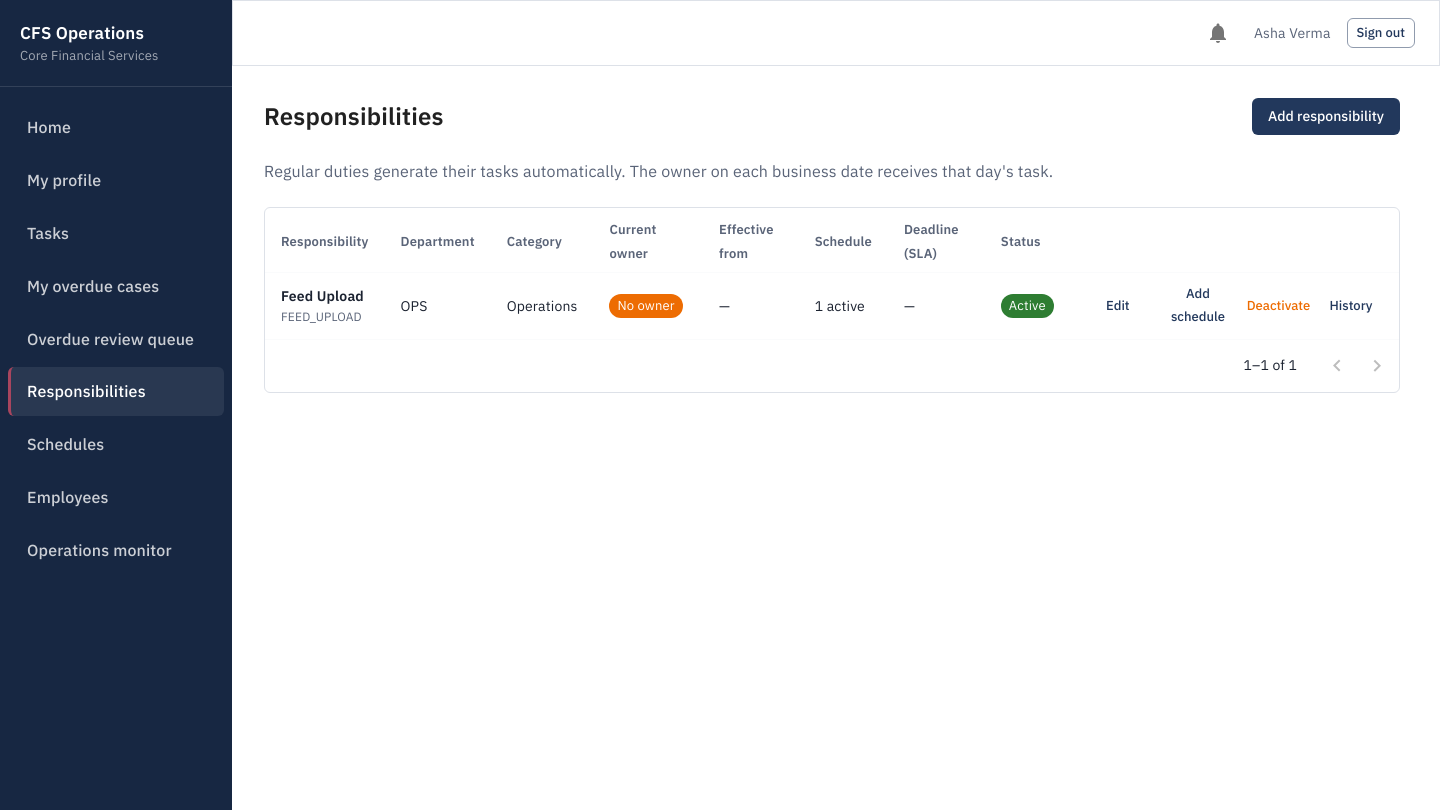
Test case: Responsibility deactivation (Change Set 1) › asks for confirmation, then deactivates with the current version
Click the button "Deactivate".
click(1278, 306)  # box [1246,279,1311,333]
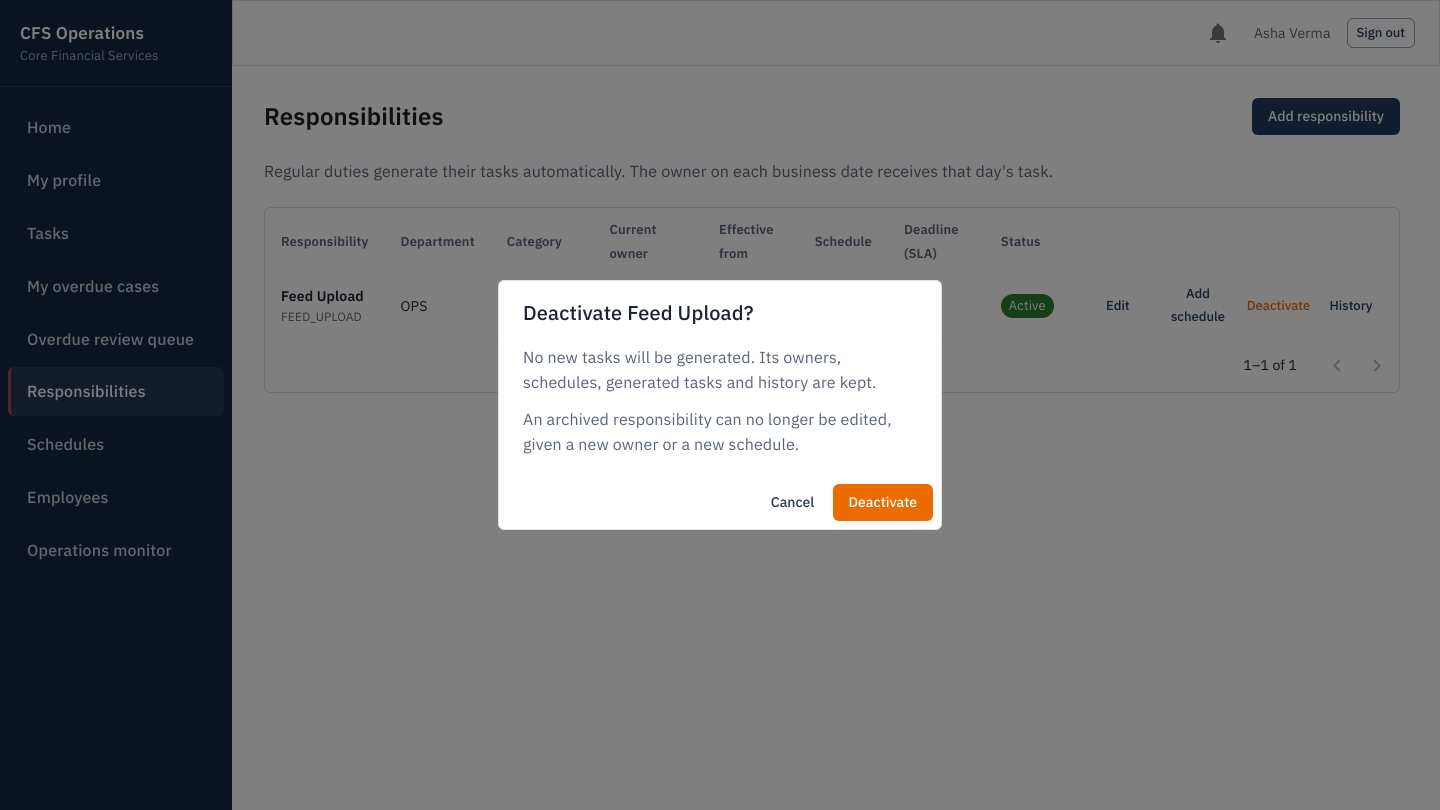
Check: the text "owners, schedules, generated tasks and history are kept" is shown, box [523,347,877,392]
Click the button "Cancel".
click(792, 503)  # box [760,484,824,521]
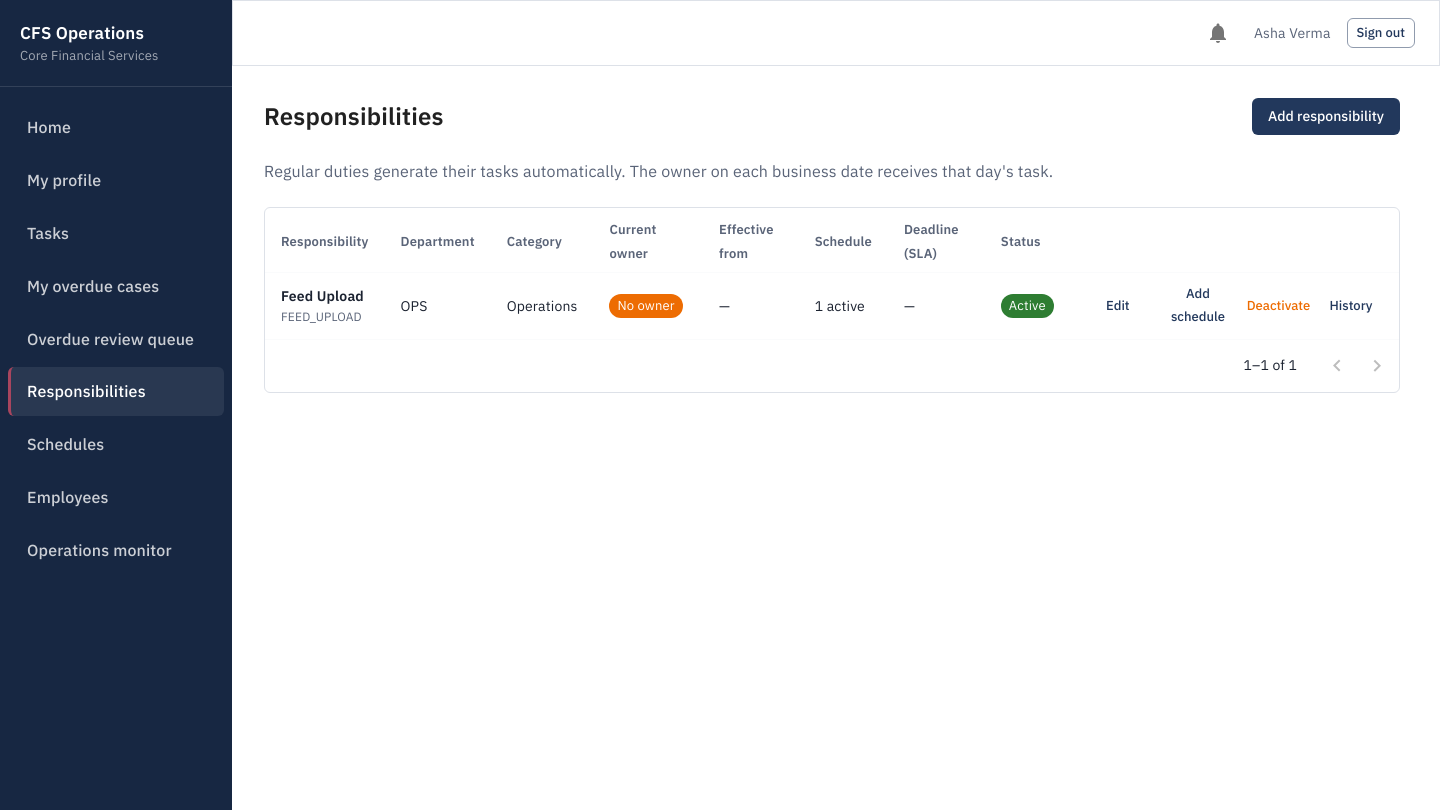
Check: the dialog is gone
Click the button "Deactivate".
click(1278, 306)  # box [1246,279,1311,333]
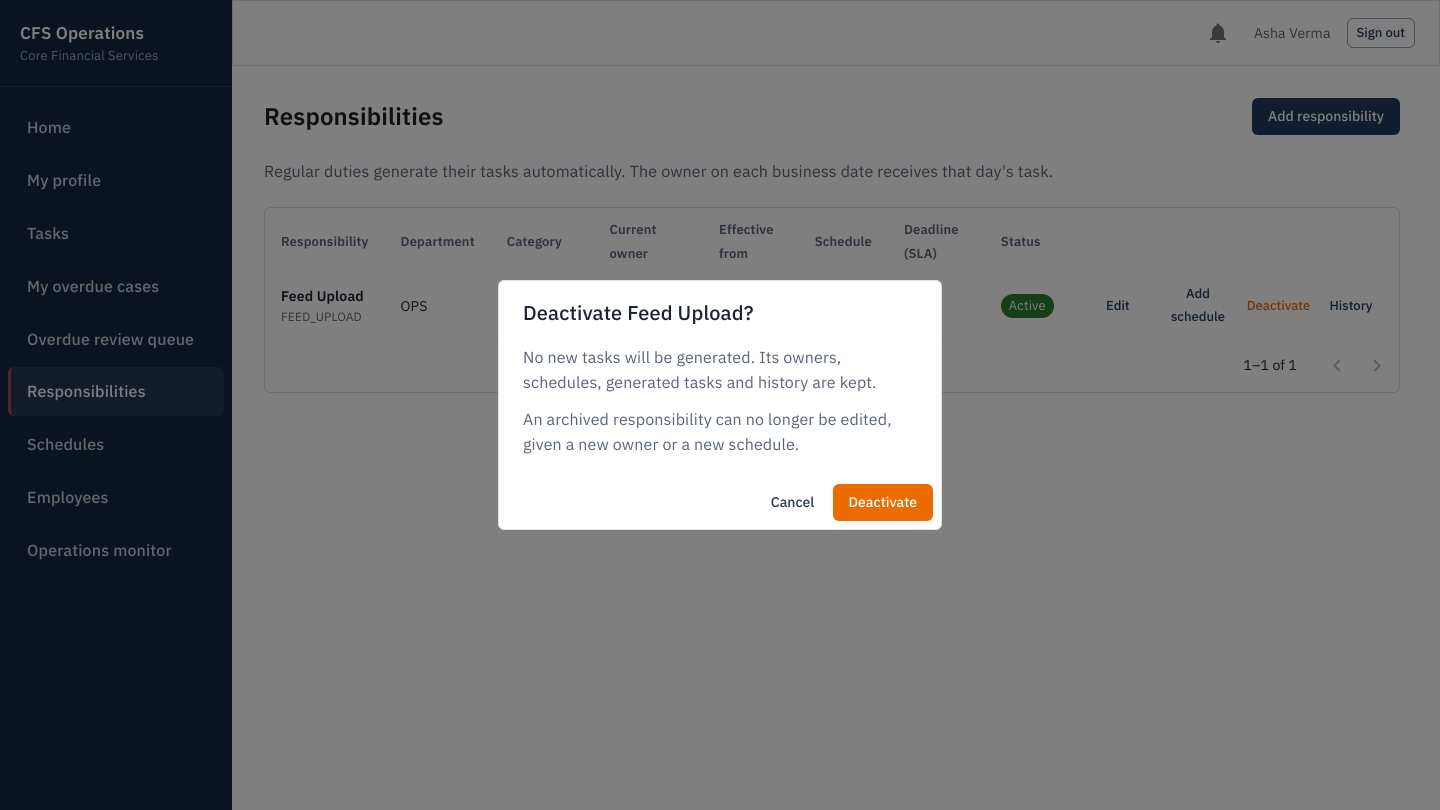
Click the button "Deactivate".
click(883, 503)  # box [832,484,933,521]
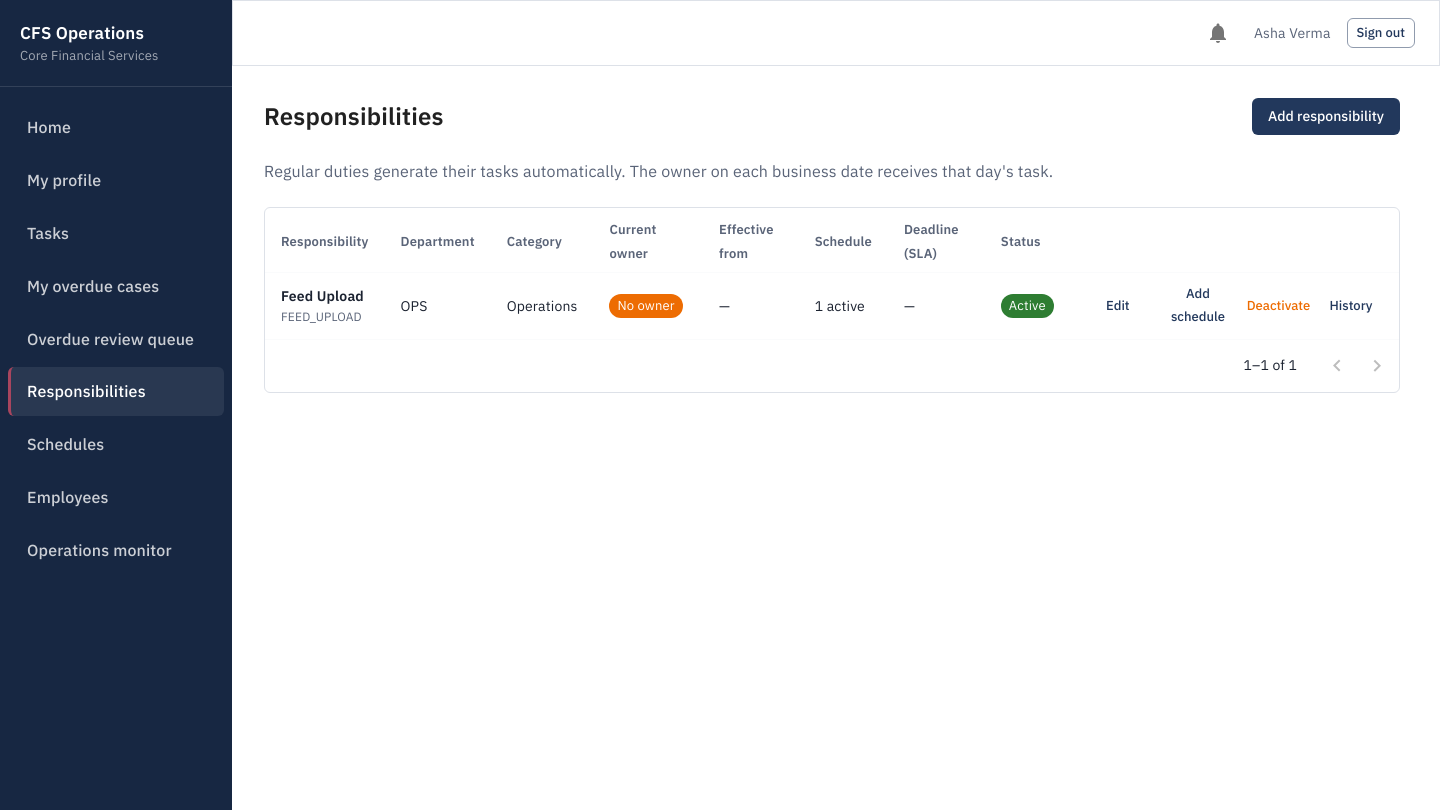
Check: the dialog is gone
